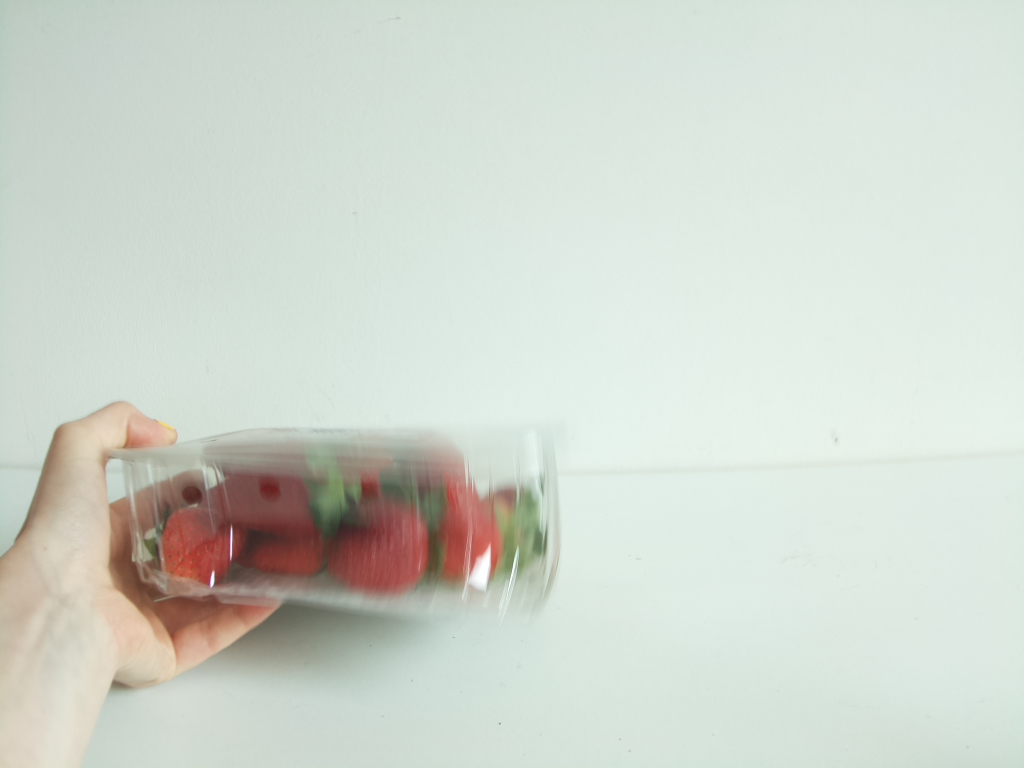soft-fruit: (108, 412, 573, 617)
